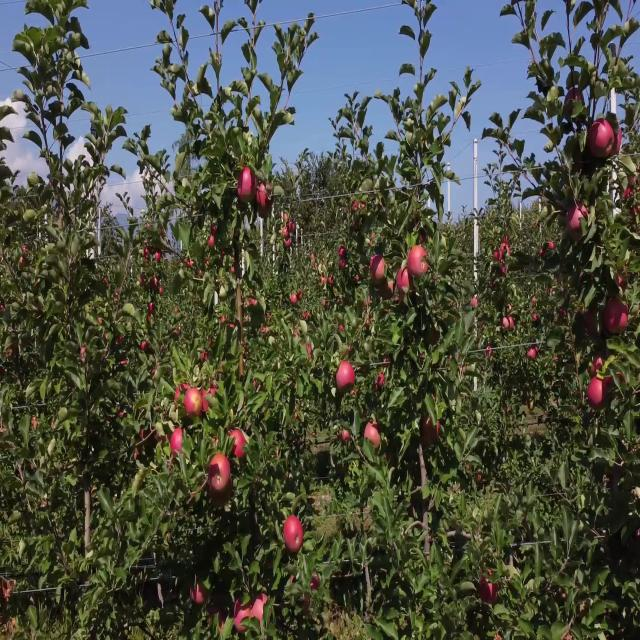apple: (588, 118, 614, 157), (335, 355, 358, 395), (209, 454, 230, 496), (605, 298, 629, 330), (284, 515, 304, 553), (236, 164, 256, 201), (408, 246, 428, 276), (233, 597, 250, 632), (256, 180, 274, 213), (586, 374, 605, 404), (364, 421, 381, 453), (252, 593, 270, 622), (481, 572, 498, 602), (370, 253, 387, 282), (186, 387, 202, 417), (229, 430, 247, 456), (171, 428, 185, 457), (568, 208, 582, 234), (398, 264, 410, 294), (189, 583, 207, 602), (424, 419, 438, 441), (612, 125, 622, 153), (202, 387, 215, 408), (590, 356, 603, 374), (176, 382, 188, 396)
